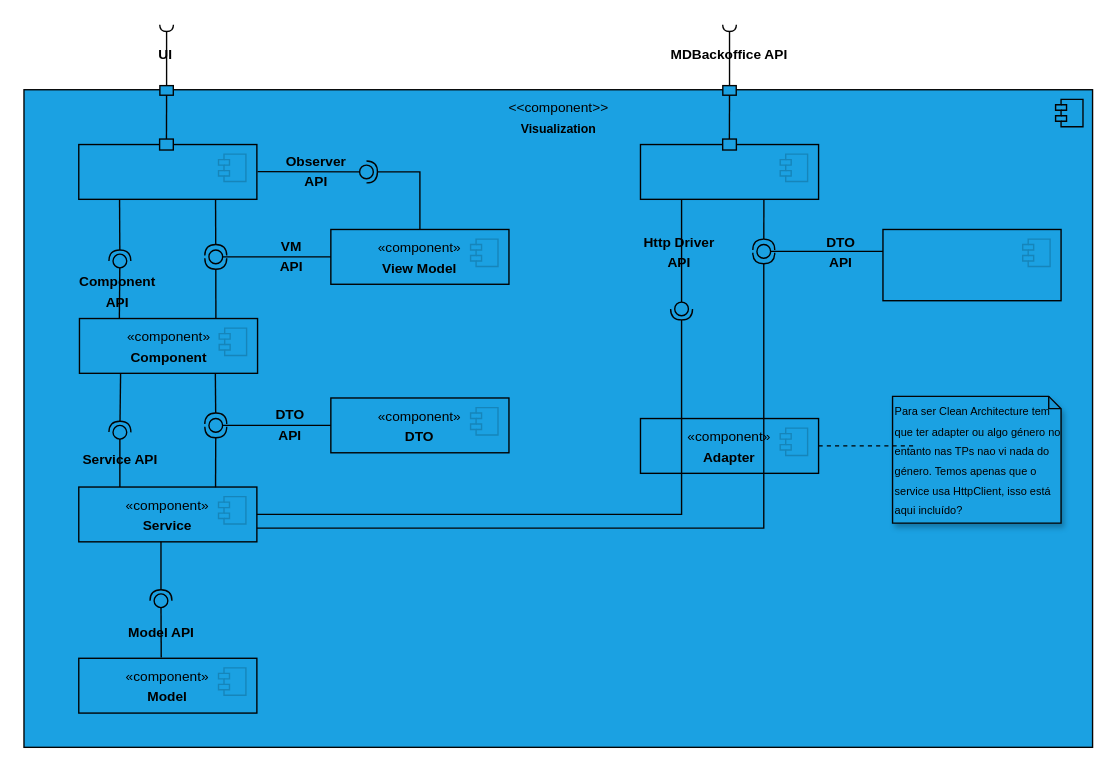
The diagram is 1117 pixels wide and 771 high, and some of its shapes have lost their labels. Here are the shapes that lost their labels. From the top down, the centre of each, then its label:
[167,171]: «component» View
[729,171]: «component» HTTP Driver
[971,264]: «component» DTO External-Internal
